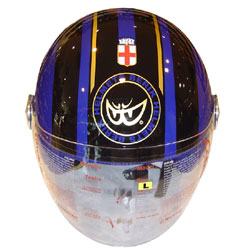helmet: (34, 23, 223, 173)
